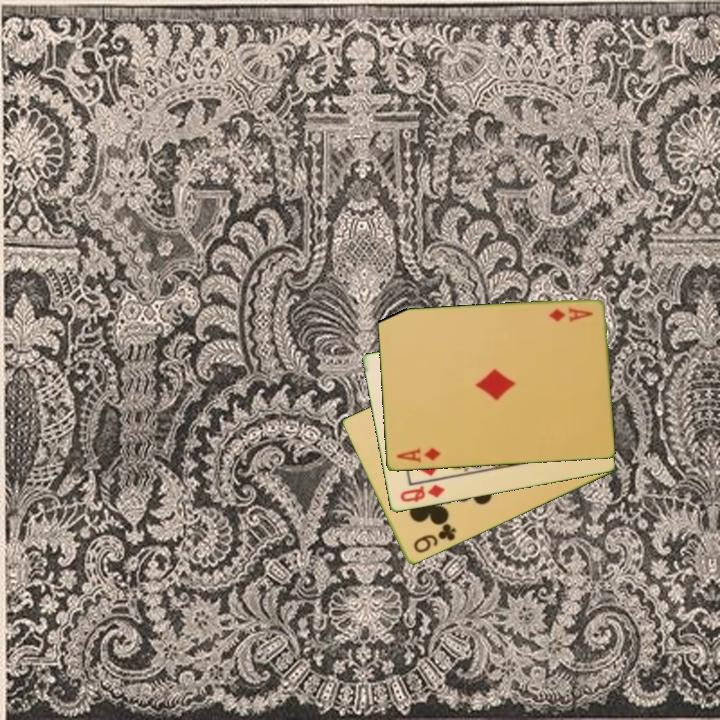9c: (410, 520, 459, 556)
Ad: (393, 444, 443, 466), (545, 304, 596, 325)
Qd: (397, 481, 447, 505)
